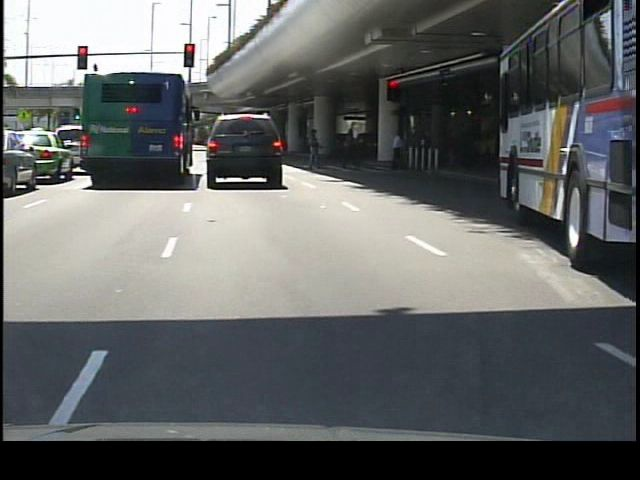person: (340, 122, 362, 173), (304, 123, 325, 172), (387, 129, 407, 172)
